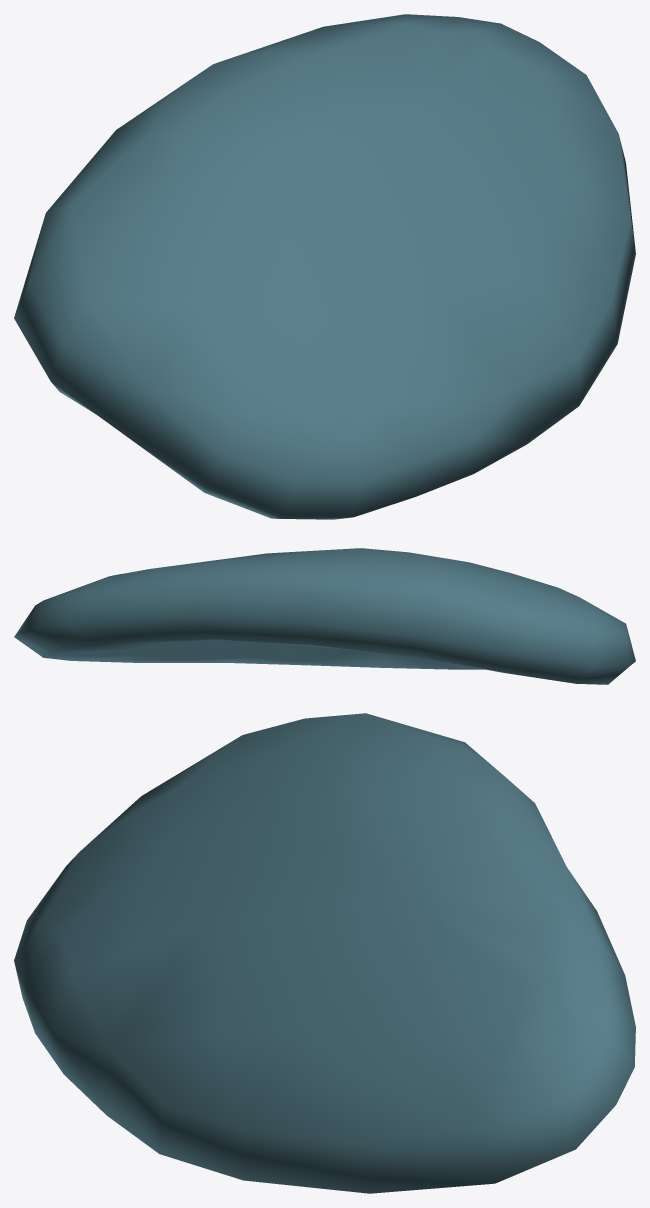
Rendered from Extensor_digitorum_longus_&_brevis_on_4th_distal_phalanx.l_Gene.glb.
The picture shows the model from 3 angles, top to bottom: view 1: azimuth 30°, elevation 25°; view 2: azimuth 150°, elevation 25°; view 3: azimuth 270°, elevation 25°; orthographic projection. The views are drawn at different scales.
Visible parts, largest first — view 1: Extensor_digitorum_longus_&_brevis_on_4th_distal_phalanx.l_G; view 2: Extensor_digitorum_longus_&_brevis_on_4th_distal_phalanx.l_G; view 3: Extensor_digitorum_longus_&_brevis_on_4th_distal_phalanx.l_G.
Boxes of the visible parts, x1,y1,x2,y2 form: Extensor_digitorum_longus_&_brevis_on_4th_distal_phalanx.l_G: (14,14,635,519); Extensor_digitorum_longus_&_brevis_on_4th_distal_phalanx.l_G: (14,548,635,684); Extensor_digitorum_longus_&_brevis_on_4th_distal_phalanx.l_G: (14,713,635,1193).
Size of the model in its own units: 0.0036 by 0.00137 by 0.00267.
